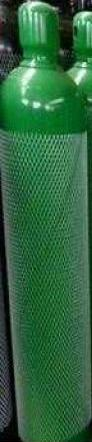cylinder: (1, 1, 92, 442)
